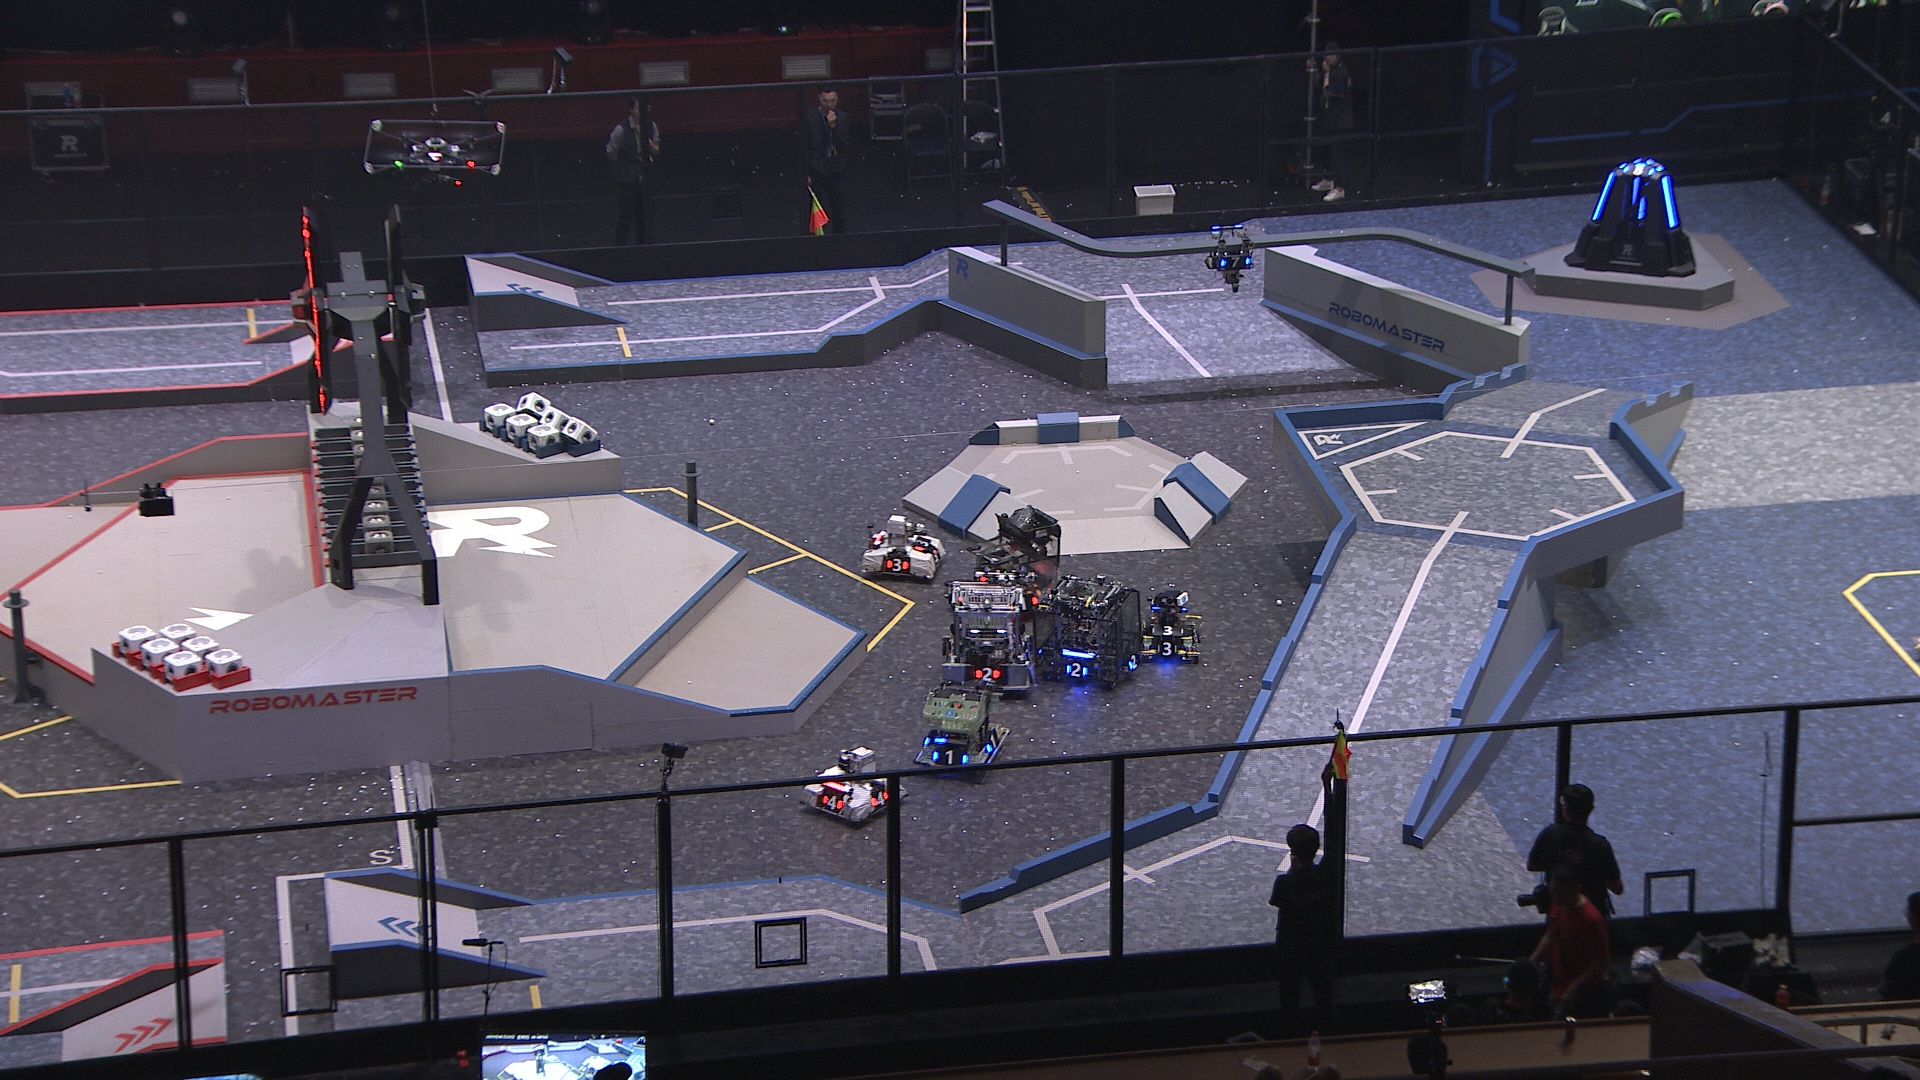armor: (1589, 171, 1615, 222), (1659, 174, 1680, 228), (932, 746, 971, 769), (818, 793, 845, 811), (1622, 164, 1656, 178), (1065, 661, 1091, 680), (1149, 622, 1185, 636), (975, 666, 1001, 684), (1218, 256, 1251, 270), (882, 556, 910, 574), (1155, 641, 1179, 659), (870, 789, 891, 808), (1629, 177, 1642, 206), (911, 534, 931, 553), (986, 732, 998, 756), (1125, 654, 1139, 671), (1636, 196, 1646, 220), (930, 549, 942, 564)
base: (1563, 161, 1697, 280)
car: (1031, 571, 1145, 692), (939, 579, 1033, 698), (972, 505, 1063, 615), (795, 745, 911, 825), (913, 683, 1006, 779), (858, 513, 948, 583), (1138, 589, 1201, 665)
watcher: (1203, 222, 1254, 291)
